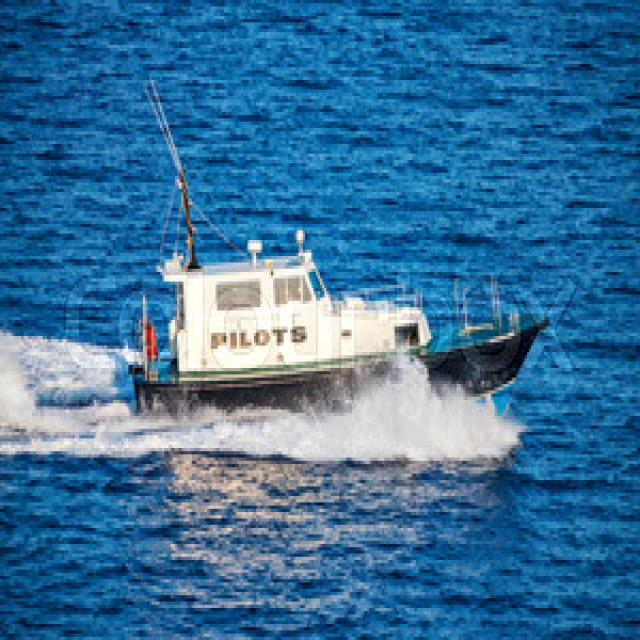houseboat: (121, 119, 546, 429)
